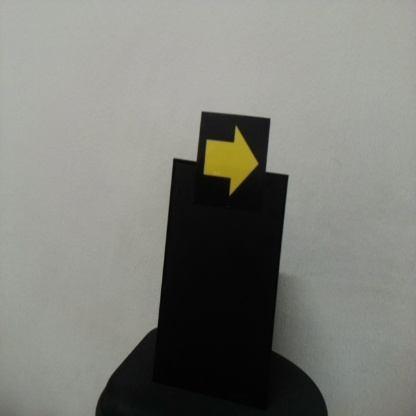id_3: (199, 113, 266, 202)
